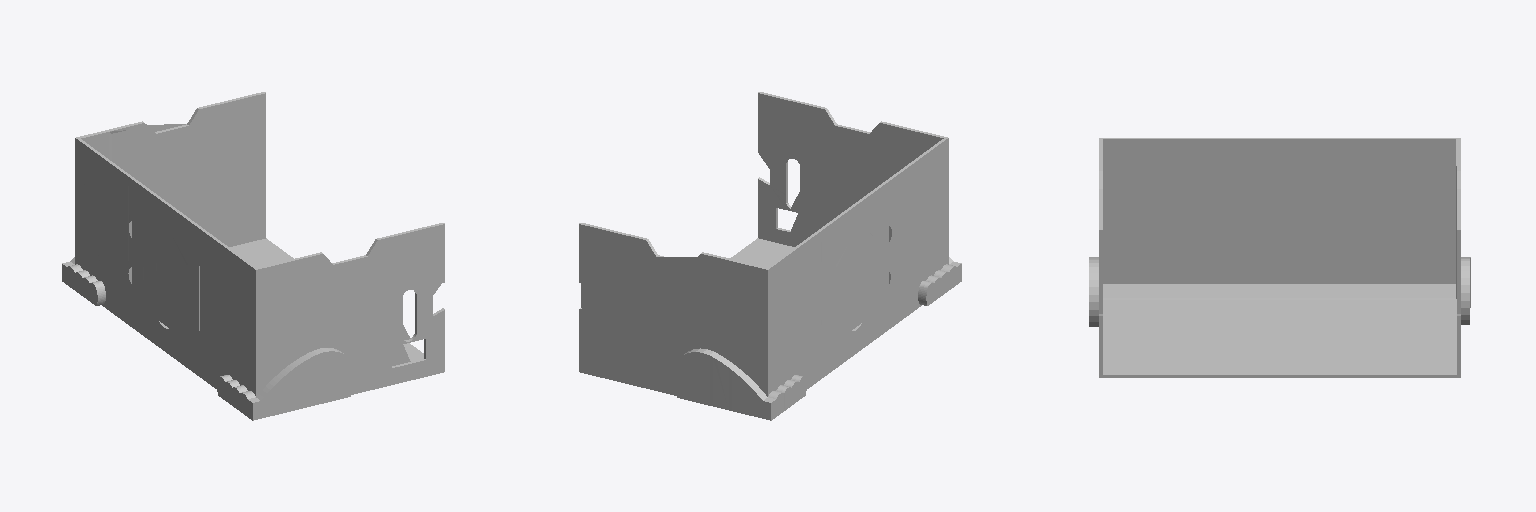
Rendered from Liquid Galaxy Voice Sides v2 Object.obj.
3 renders of one model, left to right at view 1: azimuth 30°, elevation 25°; view 2: azimuth 150°, elevation 25°; view 3: azimuth 270°, elevation 25°, orthographic.
Visible parts, largest first — view 1: Mesh1 Model; view 2: Mesh1 Model; view 3: Mesh1 Model.
Boxes of the visible parts, <box> form: Mesh1 Model: <box>62,92,444,420</box>; Mesh1 Model: <box>579,92,961,420</box>; Mesh1 Model: <box>1089,138,1470,377</box>.
Size of the model in its own units: 93.05 by 66.83 by 156.